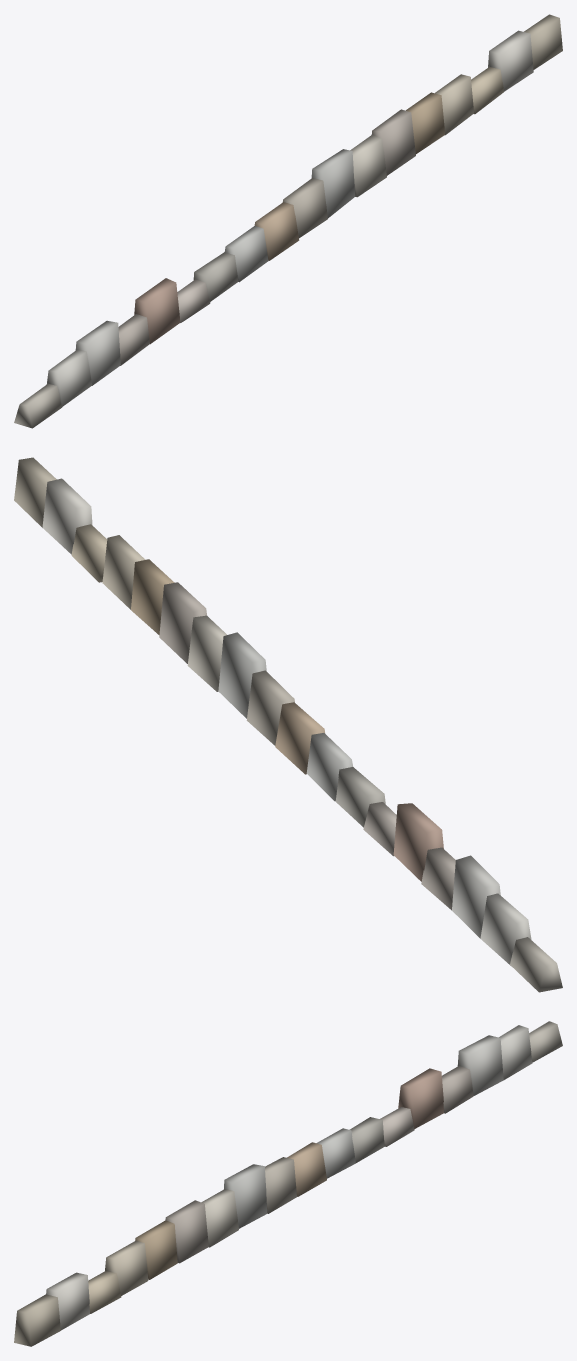
Rendered from farm_-27_-24_far.glb.
3 renders of one model, top to bottom at view 1: azimuth 90°, elevation 25°; view 2: azimuth 150°, elevation 25°; view 3: azimuth 270°, elevation 25°, orthographic. The views are drawn at different scales.
Parts seen in each view (by area): view 1: geometry_0; view 2: geometry_0; view 3: geometry_0.
Boxes of the visible parts, x1,y1,x2,y2 form: geometry_0: (14, 14, 562, 428); geometry_0: (14, 457, 562, 992); geometry_0: (14, 1021, 562, 1346).
Bounding box in the file's own units: 24.33 × 2.43 × 16.4.
